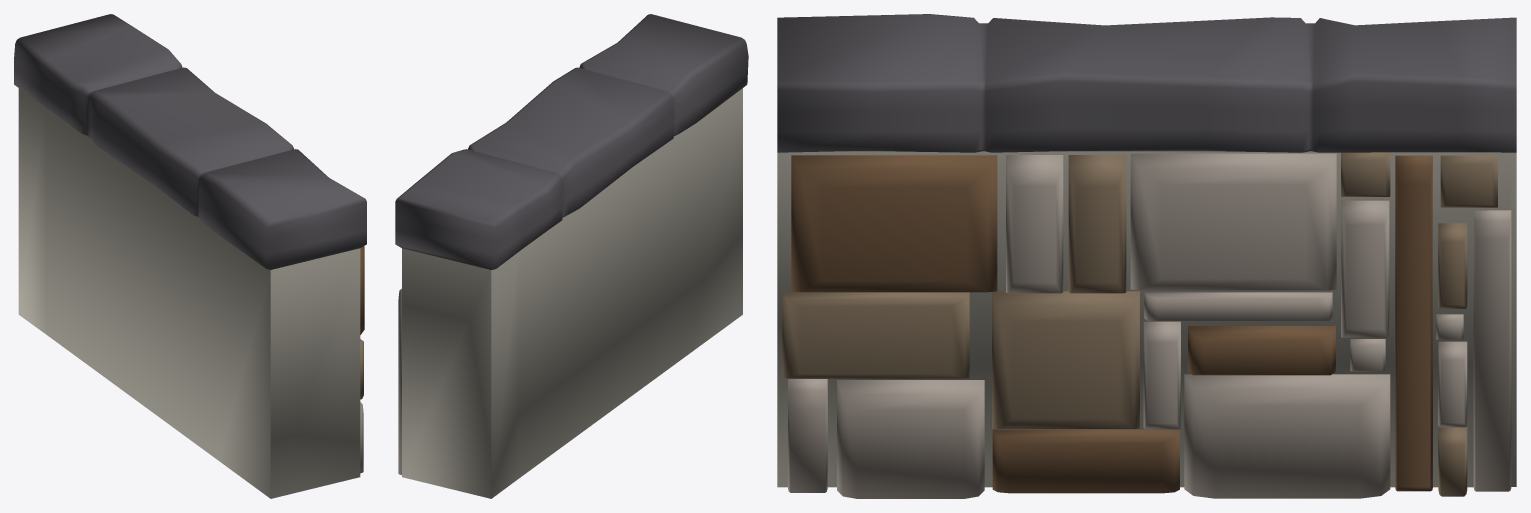
File: SM_SkyIslands_StraightLong.fbx
3 views of the same model, side by side, from view 1: azimuth 30°, elevation 25°; view 2: azimuth 150°, elevation 25°; view 3: azimuth 270°, elevation 25° (orthographic). The views are drawn at different scales.
Parts seen in each view (by area): view 1: SM_SkyIslands_Straight_Long; view 2: SM_SkyIslands_Straight_Long; view 3: SM_SkyIslands_Straight_Long.
Boxes of the visible parts, x1,y1,x2,y2 form: SM_SkyIslands_Straight_Long: (14,14,366,498); SM_SkyIslands_Straight_Long: (395,14,748,498); SM_SkyIslands_Straight_Long: (777,14,1516,498).
Bounding box in the file's own units: 516 × 1242 × 2000.
